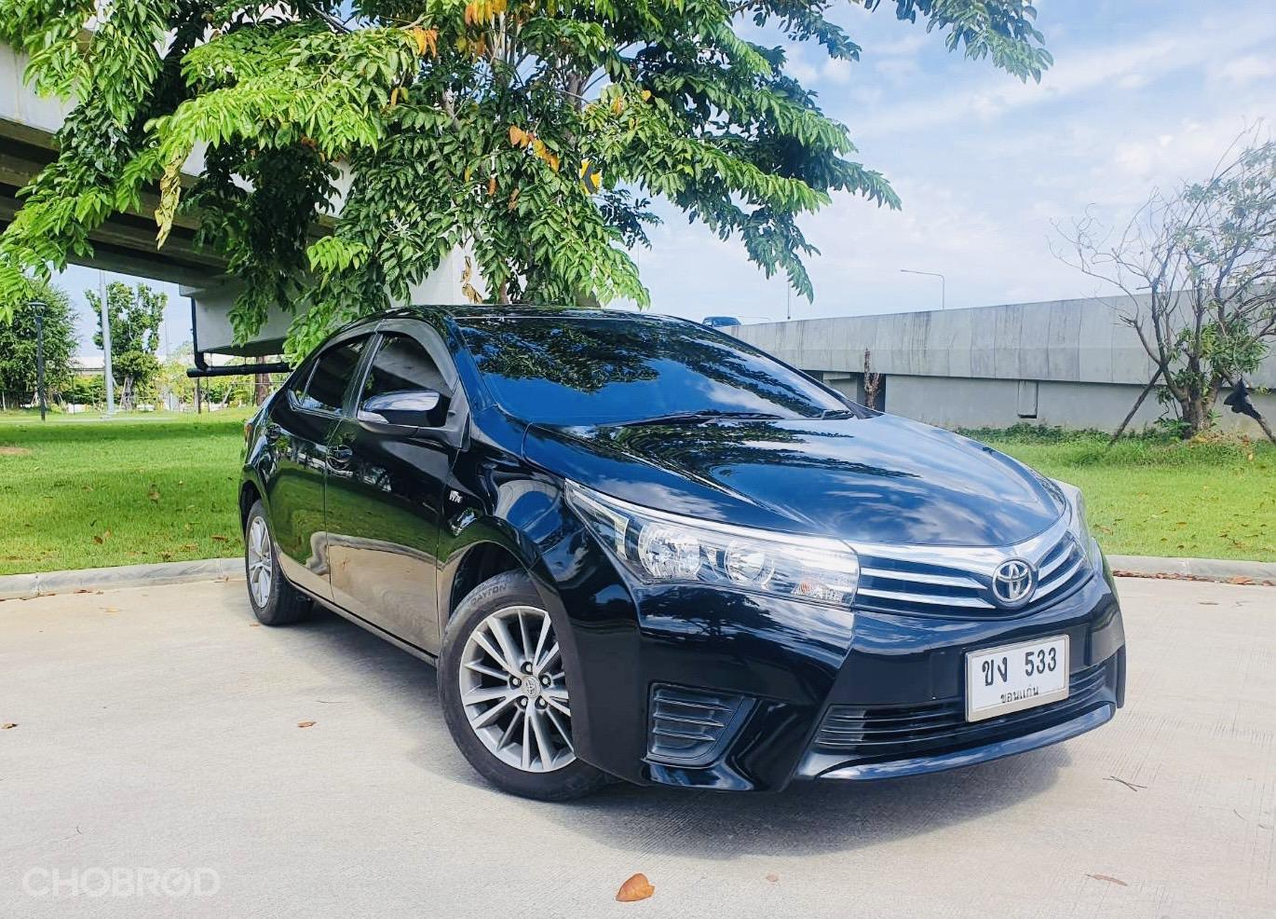license-plate: (957, 631, 1076, 732)
